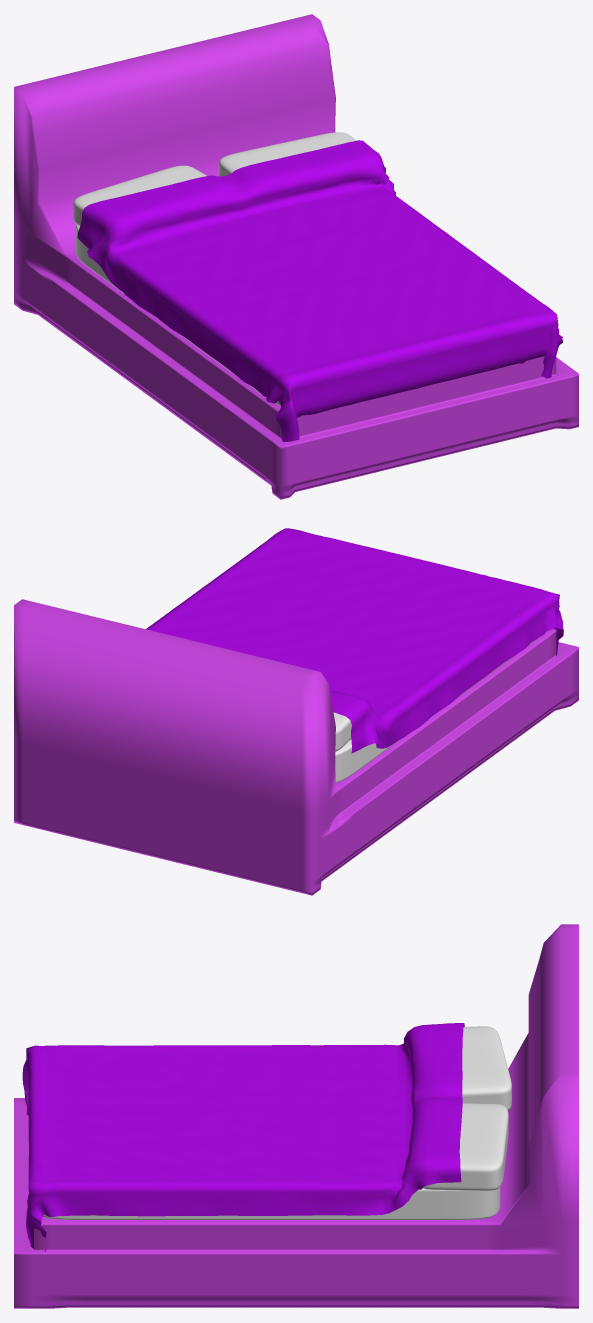
File: bed.glb
The picture shows the model from 3 angles, top to bottom: view 1: azimuth 30°, elevation 25°; view 2: azimuth 150°, elevation 25°; view 3: azimuth 270°, elevation 25°; orthographic projection. The views are drawn at different scales.
Visible parts, largest first — view 1: Cube, Plane, Cube.003, Cube.002, Cube.001; view 2: Cube, Plane, Cube.001, Cube.002; view 3: Plane, Cube, Cube.001, Cube.003, Cube.002.
Boxes of the visible parts, bbox=[...] form: Cube: bbox=[14, 14, 578, 499]; Plane: bbox=[77, 140, 562, 441]; Cube.003: bbox=[218, 132, 355, 176]; Cube.002: bbox=[73, 165, 206, 226]; Cube.001: bbox=[76, 225, 280, 405]; Cube: bbox=[14, 599, 578, 895]; Plane: bbox=[146, 528, 563, 753]; Cube.001: bbox=[335, 638, 537, 782]; Cube.002: bbox=[333, 712, 351, 751]; Plane: bbox=[22, 1023, 464, 1251]; Cube: bbox=[14, 924, 578, 1308]; Cube.001: bbox=[43, 1187, 500, 1219]; Cube.003: bbox=[422, 1103, 508, 1190]; Cube.002: bbox=[462, 1026, 511, 1110].
Bounding box in the file's own units: 3.32 × 2.31 × 5.13.
